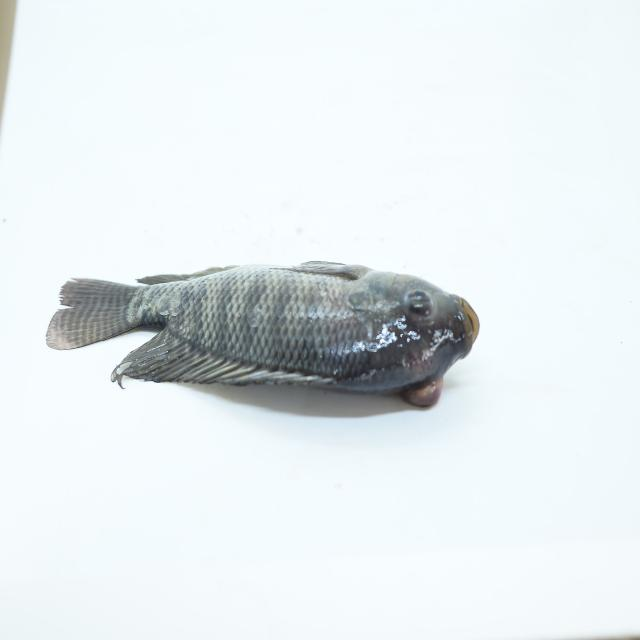streptococcus Disease: (46, 260, 484, 412)
